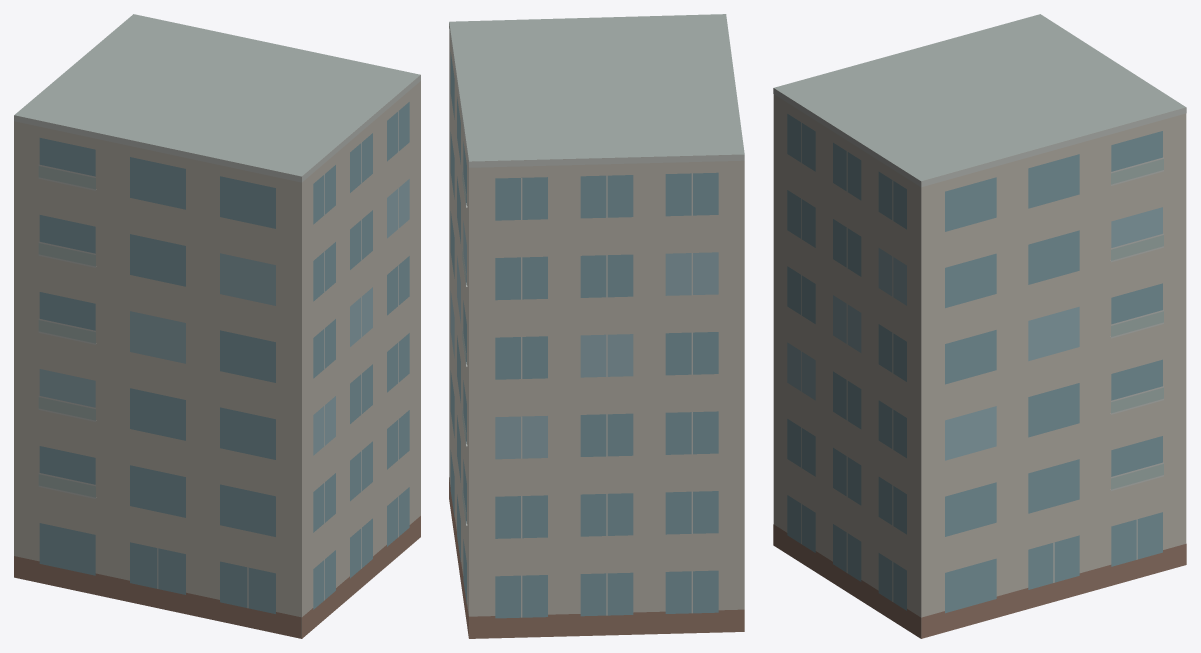
File: survey-upis-32851146.glb
3 views of the same model, side by side, from view 1: azimuth 30°, elevation 25°; view 2: azimuth 150°, elevation 25°; view 3: azimuth 270°, elevation 25° (orthographic). The views are drawn at different scales.
Visible parts, largest first — view 1: survey-upis-32851146.tmp; view 2: survey-upis-32851146.tmp; view 3: survey-upis-32851146.tmp.
Part boxes in pixels (bbox=[...]): survey-upis-32851146.tmp: bbox=[14, 14, 420, 638]; survey-upis-32851146.tmp: bbox=[449, 14, 744, 638]; survey-upis-32851146.tmp: bbox=[773, 14, 1186, 638].
Size of the model in its own units: 14.6 by 18.6 by 15.22.
